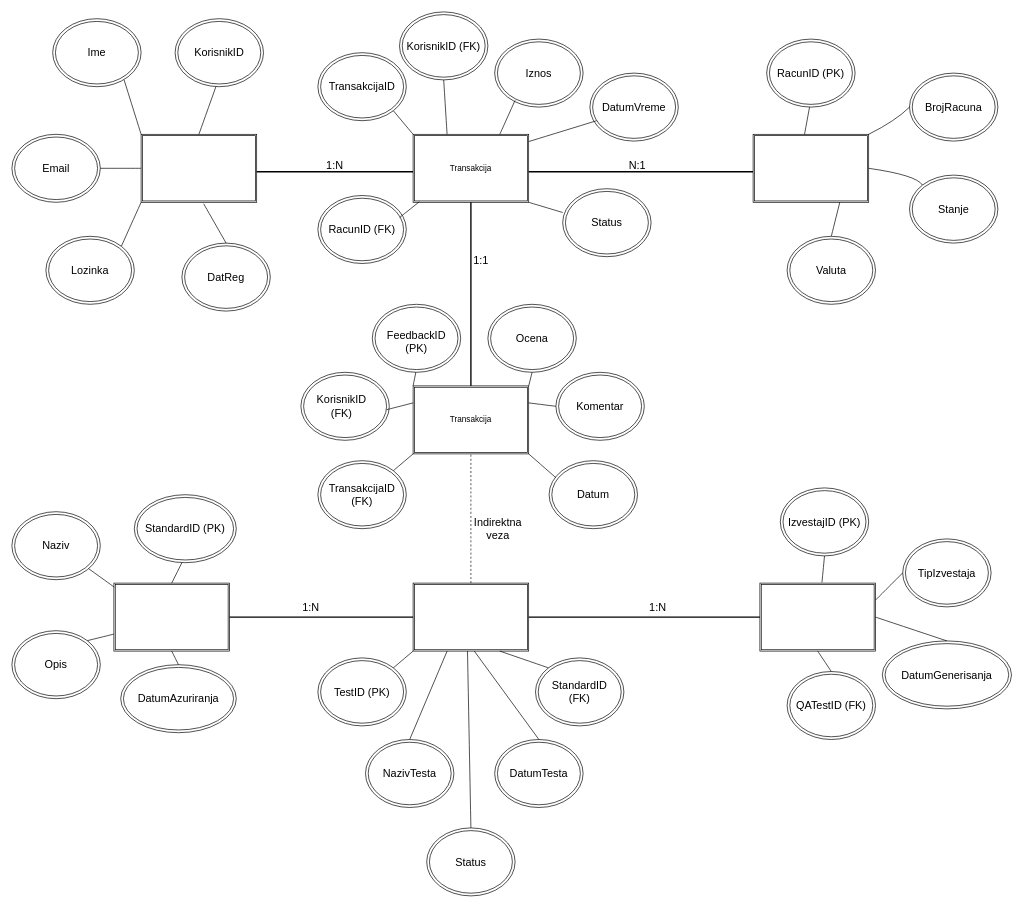
The diagram is 1023 pixels wide and 908 high, and some of its shapes have lost their labels. The shapes that lost their labels are listed below. From the top down, each one's centre as x and y in pixels, then its label:
point 198,168: Korisnik
point 810,168: Racun
point 171,616: Standard
point 470,616: QA Test
point 817,616: Izvestaj
